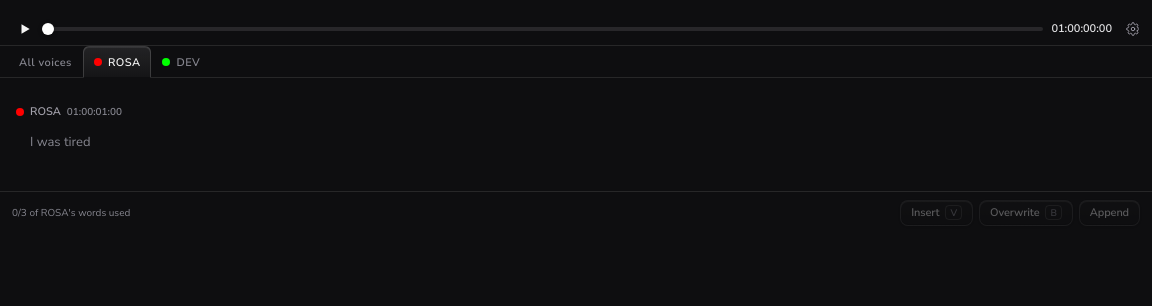
Test case: reads a person at a time through AAF Audio's tabs, opening on the first person who speaks
Expected: the text "0/3 of ROSA's words used" is shown, [12,206,130,220]
Click the tab "DEV". click: {"x": 181, "y": 62}
box: [152,46,211,78]
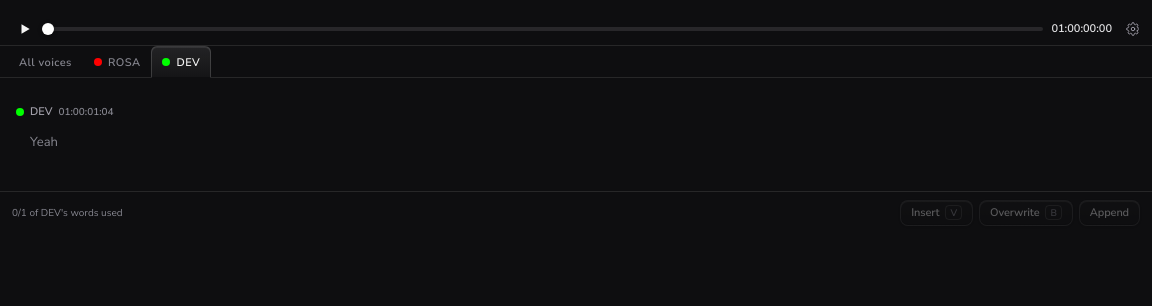
Click the tab "All voices". click: {"x": 45, "y": 62}
box: [8,46,83,78]
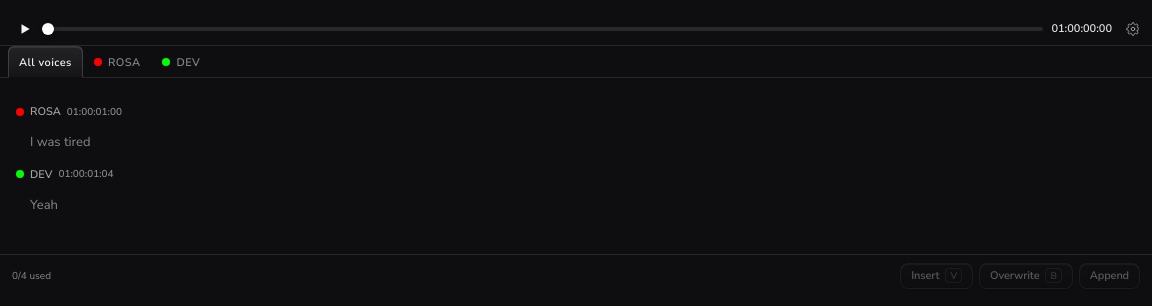
Now the text "0/4 used" is shown, box [12,269,51,283]
